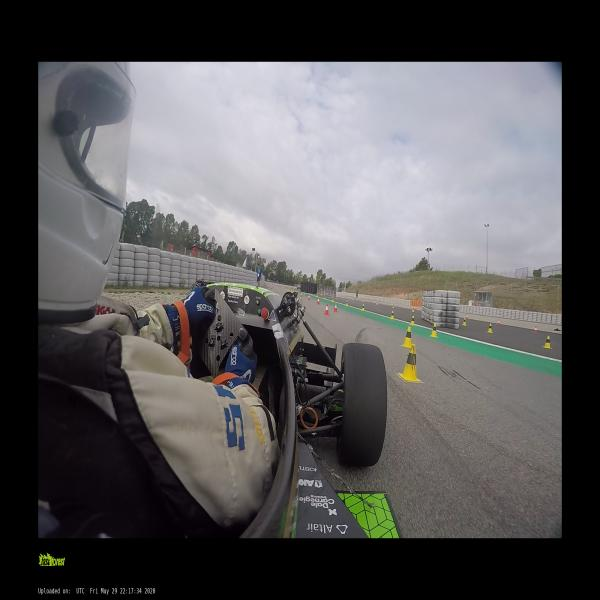orange_cone: (323, 304, 329, 316), (332, 304, 338, 313), (533, 326, 537, 334), (316, 298, 320, 306), (307, 295, 310, 301), (497, 320, 500, 326), (465, 314, 468, 320), (300, 292, 302, 297)
yellow_cone: (399, 345, 421, 382), (401, 327, 414, 347), (542, 335, 552, 348), (429, 323, 438, 337), (487, 323, 493, 333), (410, 316, 415, 326), (390, 311, 394, 320), (462, 318, 466, 326), (361, 304, 365, 311), (345, 300, 348, 306), (361, 298, 364, 302), (332, 297, 334, 302), (412, 307, 414, 312), (392, 303, 394, 308), (324, 295, 326, 300), (376, 301, 377, 305)
